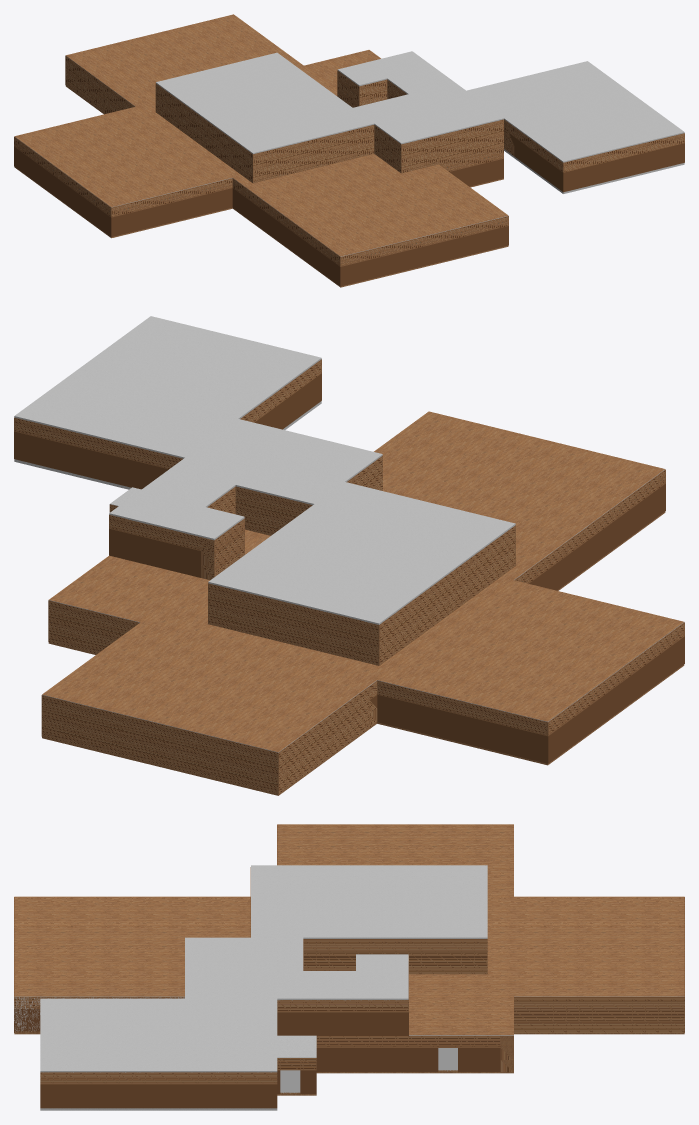
Rendered from House+windows.fbx.
The picture shows the model from 3 angles, top to bottom: view 1: azimuth 30°, elevation 25°; view 2: azimuth 150°, elevation 25°; view 3: azimuth 270°, elevation 25°; orthographic projection. The views are drawn at different scales.
Parts seen in each view (by area): view 1: pietro, sufit, parter_sciany, pietro_sciany, sufit_parter, parter; view 2: pietro, sufit, parter_sciany, pietro_sciany, sufit_parter, parter; view 3: pietro, sufit, pietro_sciany, parter_sciany, sufit_parter, parter_sciana, parter.
Part boxes in pixels (x1=…): pietro: x1=15, y1=14, x2=508, y2=256; sufit: x1=156, y1=51, x2=684, y2=162; parter_sciany: x1=14, y1=56, x2=508, y2=286; pietro_sciany: x1=155, y1=70, x2=684, y2=192; sufit_parter: x1=14, y1=56, x2=684, y2=256; parter: x1=14, y1=85, x2=508, y2=287; pietro: x1=42, y1=411, x2=683, y2=752; sufit: x1=14, y1=316, x2=515, y2=624; parter_sciany: x1=41, y1=469, x2=684, y2=794; pietro_sciany: x1=14, y1=359, x2=515, y2=665; sufit_parter: x1=14, y1=401, x2=684, y2=752; parter: x1=42, y1=512, x2=684, y2=795; pietro: x1=14, y1=824, x2=684, y2=1035; sufit: x1=40, y1=865, x2=487, y2=1072; pietro_sciany: x1=40, y1=867, x2=487, y2=1108; parter_sciany: x1=14, y1=825, x2=684, y2=1093; sufit_parter: x1=14, y1=996, x2=684, y2=1110; parter_sciana: x1=14, y1=997, x2=457, y2=1093; parter: x1=14, y1=1031, x2=684, y2=1095.
Size of the model in its own units: 5104 by 625 by 5103.
5 materials, 3 textured.
